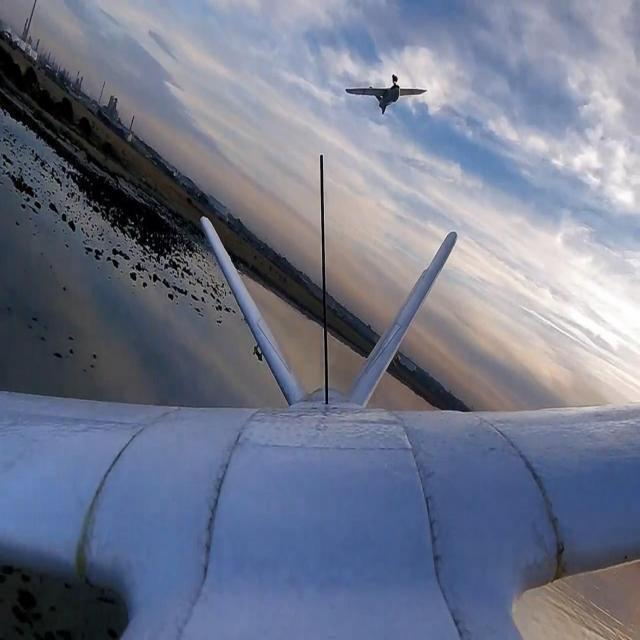UAV: (53, 194, 596, 638), (338, 63, 451, 128)
